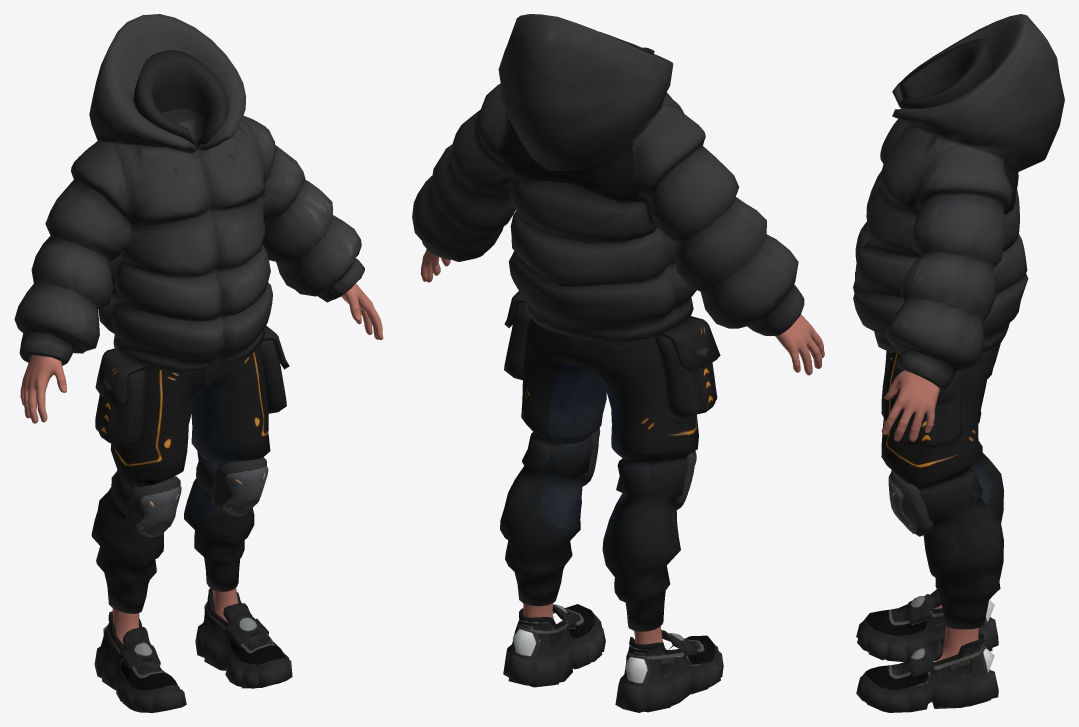
The model's file is outfit-cyberpunk-01.glb.
The picture shows the model from 3 angles, left to right: view 1: azimuth 30°, elevation 25°; view 2: azimuth 150°, elevation 25°; view 3: azimuth 270°, elevation 25°; orthographic projection. The views are drawn at different scales.
Visible parts, largest first — view 1: Wolf3D_Outfit_Top, Wolf3D_Outfit_Bottom, Wolf3D_Outfit_Footwear, Wolf3D_Body; view 2: Wolf3D_Outfit_Top, Wolf3D_Outfit_Bottom, Wolf3D_Outfit_Footwear, Wolf3D_Body; view 3: Wolf3D_Outfit_Top, Wolf3D_Outfit_Bottom, Wolf3D_Outfit_Footwear, Wolf3D_Body.
Part boxes in pixels (<box>): Wolf3D_Outfit_Top: <box>14,14,364,373</box>; Wolf3D_Outfit_Bottom: <box>91,325,289,613</box>; Wolf3D_Outfit_Footwear: <box>94,588,292,712</box>; Wolf3D_Body: <box>20,283,383,644</box>; Wolf3D_Outfit_Top: <box>412,14,804,341</box>; Wolf3D_Outfit_Bottom: <box>500,291,720,631</box>; Wolf3D_Outfit_Footwear: <box>503,604,723,712</box>; Wolf3D_Body: <box>420,249,824,649</box>; Wolf3D_Outfit_Top: <box>853,14,1064,389</box>; Wolf3D_Outfit_Bottom: <box>881,343,1003,629</box>; Wolf3D_Outfit_Footwear: <box>856,589,998,712</box>; Wolf3D_Body: <box>881,370,978,661</box>.
Bounding box in the file's own units: 1.06 × 1.82 × 0.5337.
4 materials, 4 textured.
